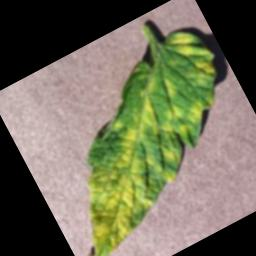Leaf_Mold: (33, 70, 228, 256), (162, 20, 224, 94), (182, 90, 222, 127), (158, 73, 183, 101)
